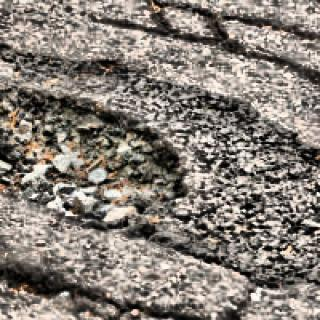pothole: (0, 83, 191, 244)
